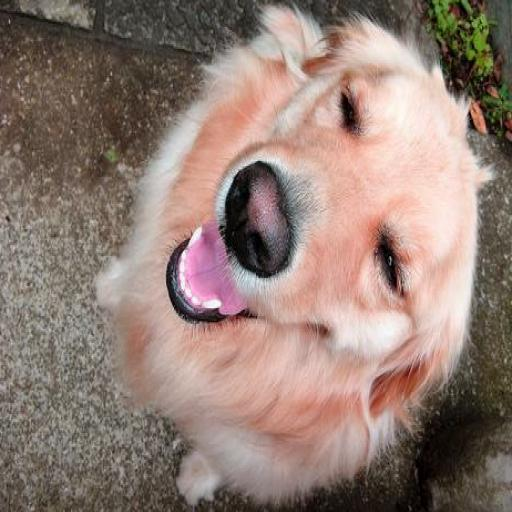dog_face: (172, 21, 455, 401)
